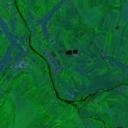alloviz: (64, 47, 79, 55)
